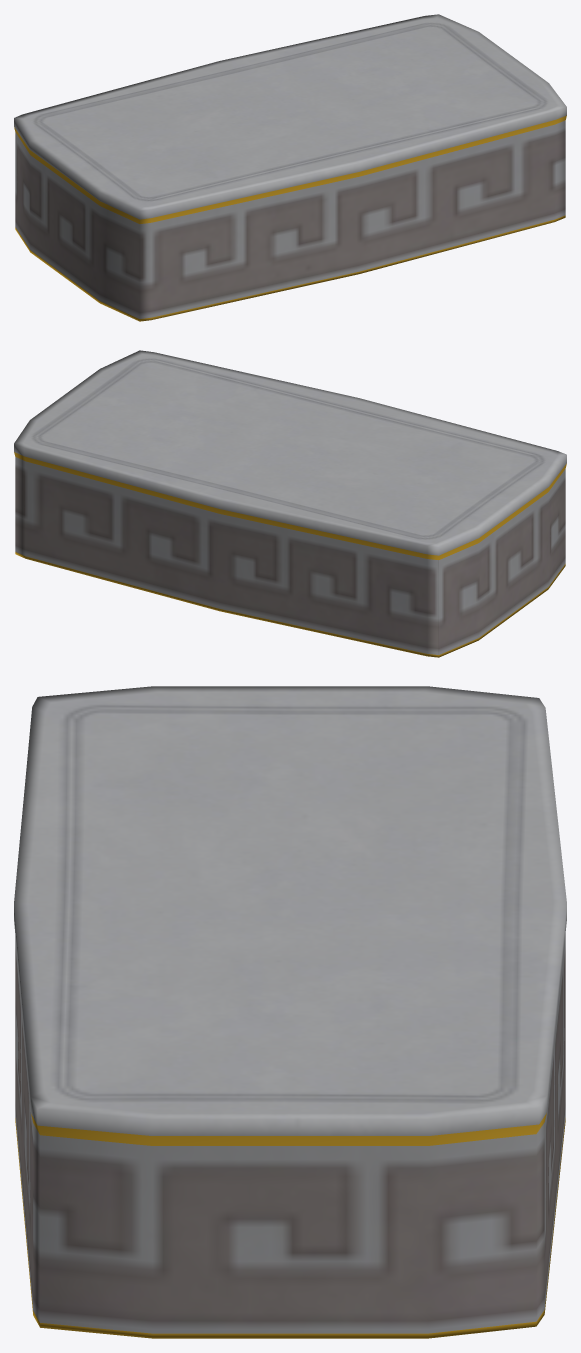
The model's file is Pantheon_Table.fbx.
3 views of the same model, one above another, from view 1: azimuth 30°, elevation 25°; view 2: azimuth 150°, elevation 25°; view 3: azimuth 270°, elevation 25° (orthographic). The views are drawn at different scales.
Visible parts, largest first — view 1: Pantheon_Table; view 2: Pantheon_Table; view 3: Pantheon_Table.
Boxes of the visible parts, box(x1,y1,x2,y2) form: Pantheon_Table: box(14, 14, 566, 321); Pantheon_Table: box(14, 350, 566, 657); Pantheon_Table: box(14, 686, 566, 1338).
Size of the model in its own units: 200 by 47.27 by 108.
